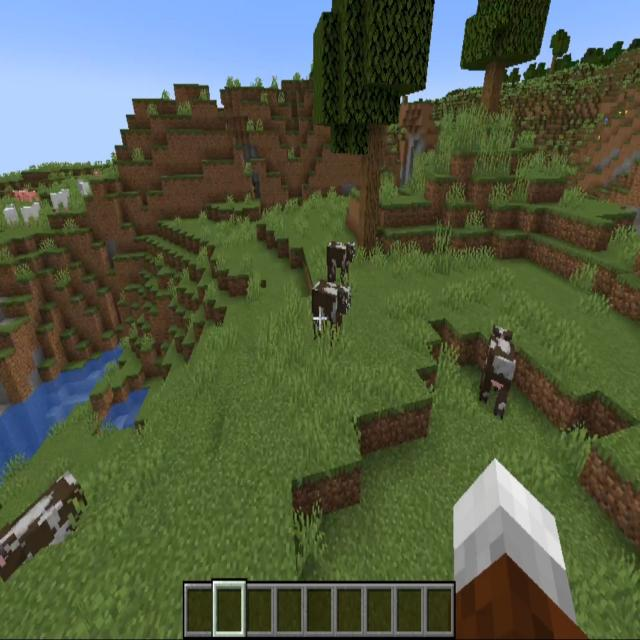Cow: (0, 468, 89, 583), (480, 319, 518, 419), (311, 278, 351, 347), (326, 240, 357, 290)
Pig: (19, 188, 39, 204), (14, 185, 29, 203), (94, 169, 103, 178)
Sheep: (50, 187, 70, 214), (21, 202, 42, 227), (5, 202, 19, 226), (76, 178, 90, 198)
